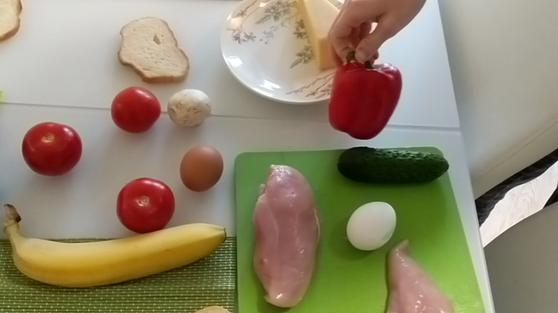banana: (1, 203, 228, 292)
champignon: (171, 85, 213, 127)
cheese: (302, 1, 350, 72)
chicken_fillet: (252, 162, 324, 310), (388, 240, 455, 313)
cucumber: (338, 145, 450, 185)
egg: (346, 197, 399, 255), (179, 147, 224, 194)
pepper: (328, 55, 404, 138)
tomato: (117, 177, 177, 231), (23, 123, 82, 173), (110, 83, 163, 130)
white_bread: (122, 16, 190, 85), (1, 2, 24, 44)
